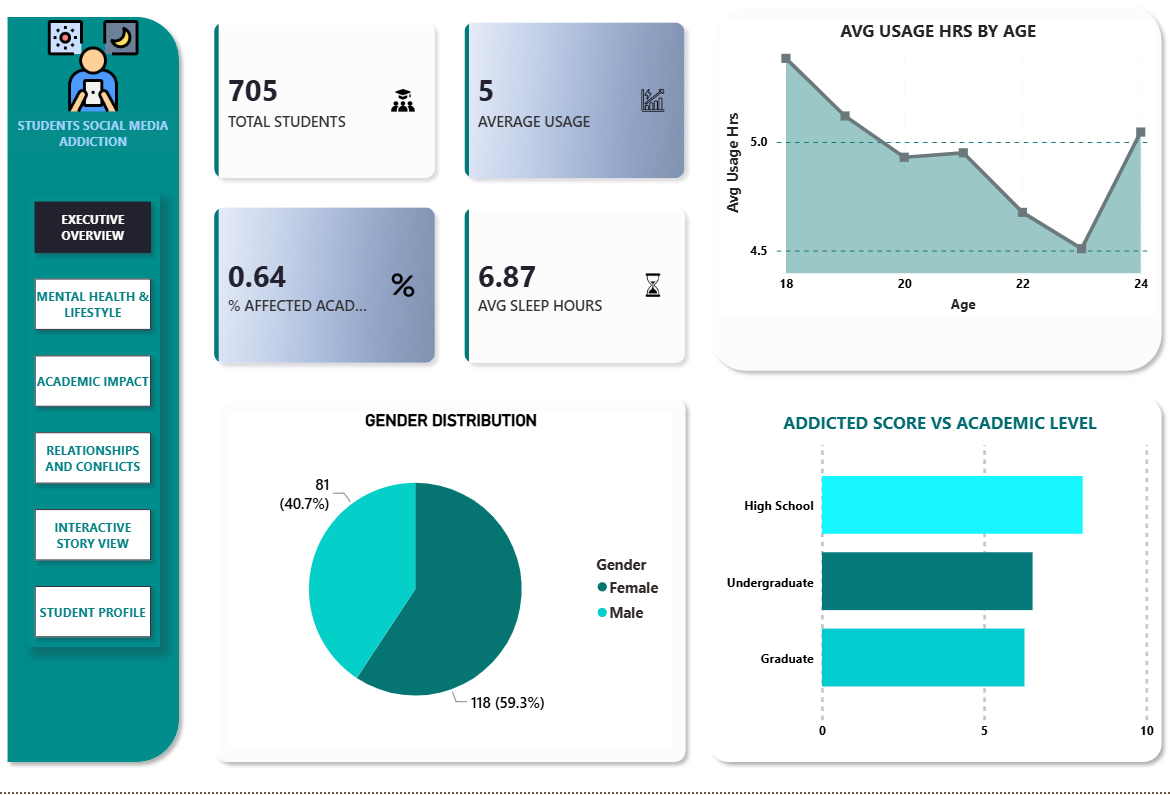

What the dashboard file says about the page in this screenshot:
{"tool":"powerbi","page":{"name":"EXECUTIVE OVERVIEW","canvas":[1280,870],"ordinal":0},"visuals":[{"type":"shape","box":[0,13.7,205.8,832.9],"z":0},{"type":"image","box":[30.2,24.7,145.5,102.9],"z":1000},{"type":"textbox","box":[11,127.6,183.9,45.3],"z":2000},{"type":"cardVisual","fields":{"Data":["CountNonNull(Student Details.Student_ID)","Platform Details.Avg Usage Hrs","Platform Details.% Affected Academically","Student Details.Avg Sleep Hrs"]},"box":[205.8,0,572.2,430.9],"z":3000},{"type":"shape","box":[227.8,430.9,531,415.8],"z":4000},{"type":"pieChart","title":"GENDER DISTRIBUTION","fields":{"Category":["Student Details.Gender"],"Y":["Student Details.Addicted Student Count"]},"box":[252.5,454.2,483,369.1],"z":5000},{"type":"shape","box":[768.4,0,511.8,418.5],"z":6000},{"type":"lineChart","title":"AVG USAGE HRS BY AGE","fields":{"Category":["Student Details.Age"],"Y":["Platform Details.Avg Usage Hrs"]},"box":[789,24.7,473.4,326.6],"z":7000},{"type":"shape","box":[768.4,430.9,511.8,415.8],"z":8000},{"type":"barChart","title":"ADDICTED SCORE VS ACADEMIC LEVEL","fields":{"Category":["Student Details.Academic_Level"],"Y":["Avg(Student Details.Addicted_Score)"]},"box":[789,454.2,477.5,369.1],"z":9000},{"type":"pageNavigator","box":[29.9,215.2,145.4,496],"z":14501}]}

Visuals, with their boxes in screenshot pixels (x1, y1, x2, y2), scaled from the page's 1280x870 canvas onto the 1170x795 screenshot:
shape: box=[0, 13, 188, 774]
image: box=[28, 23, 161, 117]
textbox: box=[10, 117, 178, 158]
cardVisual - CountNonNull(Student Details.Student_ID) x Platform Details.Avg Usage Hrs: box=[188, 0, 711, 394]
shape: box=[208, 394, 694, 774]
"GENDER DISTRIBUTION" pieChart: box=[231, 415, 672, 752]
shape: box=[702, 0, 1169, 382]
"AVG USAGE HRS BY AGE" lineChart: box=[721, 23, 1154, 321]
shape: box=[702, 394, 1169, 774]
"ADDICTED SCORE VS ACADEMIC LEVEL" barChart: box=[721, 415, 1158, 752]
pageNavigator: box=[27, 197, 160, 650]
